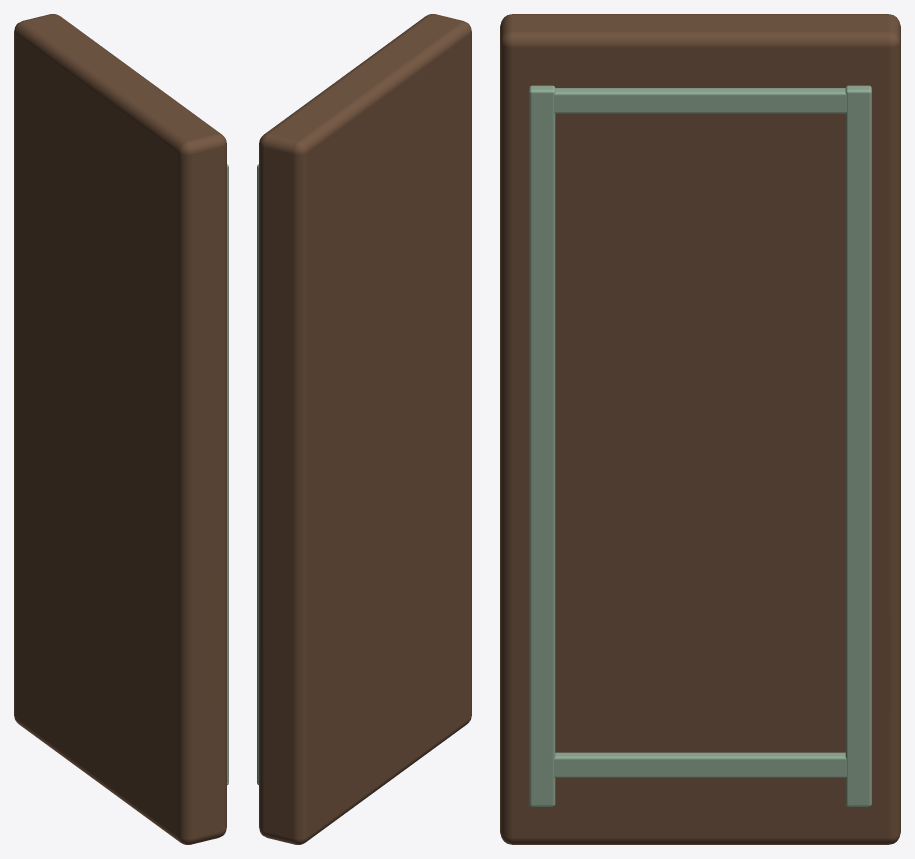
File: abandoned-telephone-exchange-switchboard-end-panel-62bcf2ae__31976.glb
The picture shows the model from 3 angles, left to right: view 1: azimuth 30°, elevation 25°; view 2: azimuth 150°, elevation 25°; view 3: azimuth 270°, elevation 25°; orthographic projection. The views are drawn at different scales.
Visible parts, largest first — view 1: switchboard-end-panel; view 2: switchboard-end-panel; view 3: switchboard-end-panel.
Part boxes in pixels (x1,y1,x2,y2): switchboard-end-panel: [14, 14, 228, 844]; switchboard-end-panel: [257, 14, 471, 844]; switchboard-end-panel: [500, 14, 900, 844].
Size of the model in its own units: 0.149 by 1.7 by 0.76.
